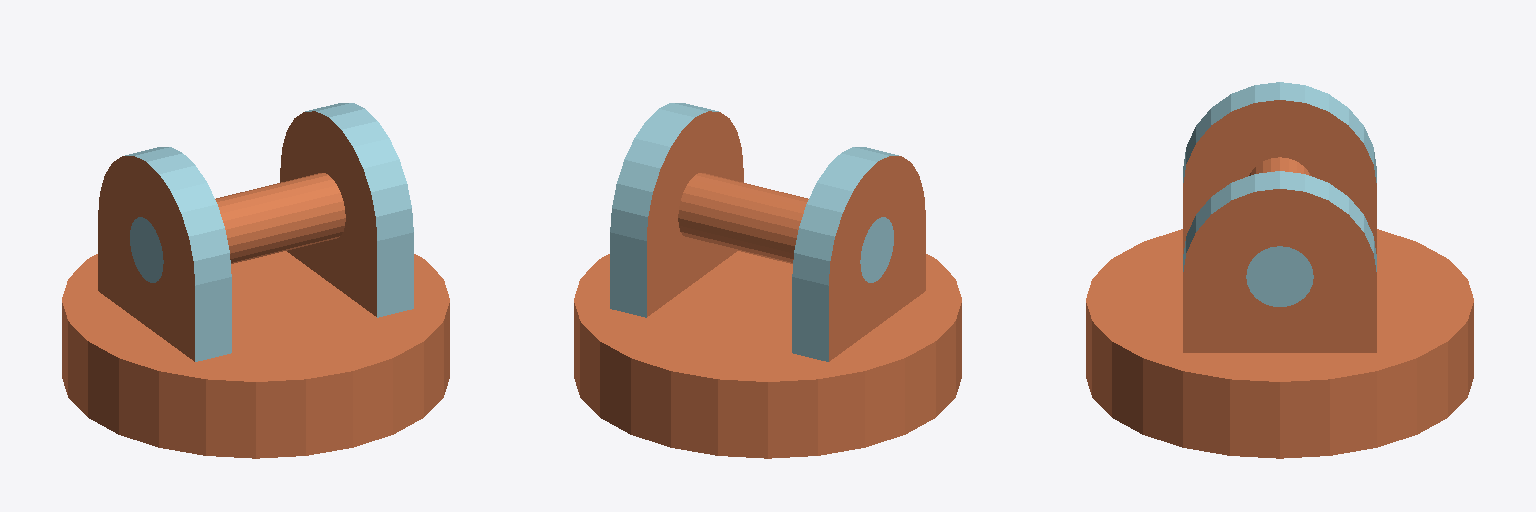
The model's file is weapon_base.obj.
The picture shows the model from 3 angles: view 1: azimuth 30°, elevation 25°; view 2: azimuth 150°, elevation 25°; view 3: azimuth 270°, elevation 25°; orthographic projection.
Visible parts, largest first — view 1: weapon_ballista; view 2: weapon_ballista; view 3: weapon_ballista.
Part boxes in pixels (left/top/right/bottom): weapon_ballista: left=62, top=103, right=449, bottom=458; weapon_ballista: left=574, top=103, right=961, bottom=458; weapon_ballista: left=1086, top=82, right=1473, bottom=458.
Bounding box in the file's own units: 0.4598 × 0.315 × 0.4598.